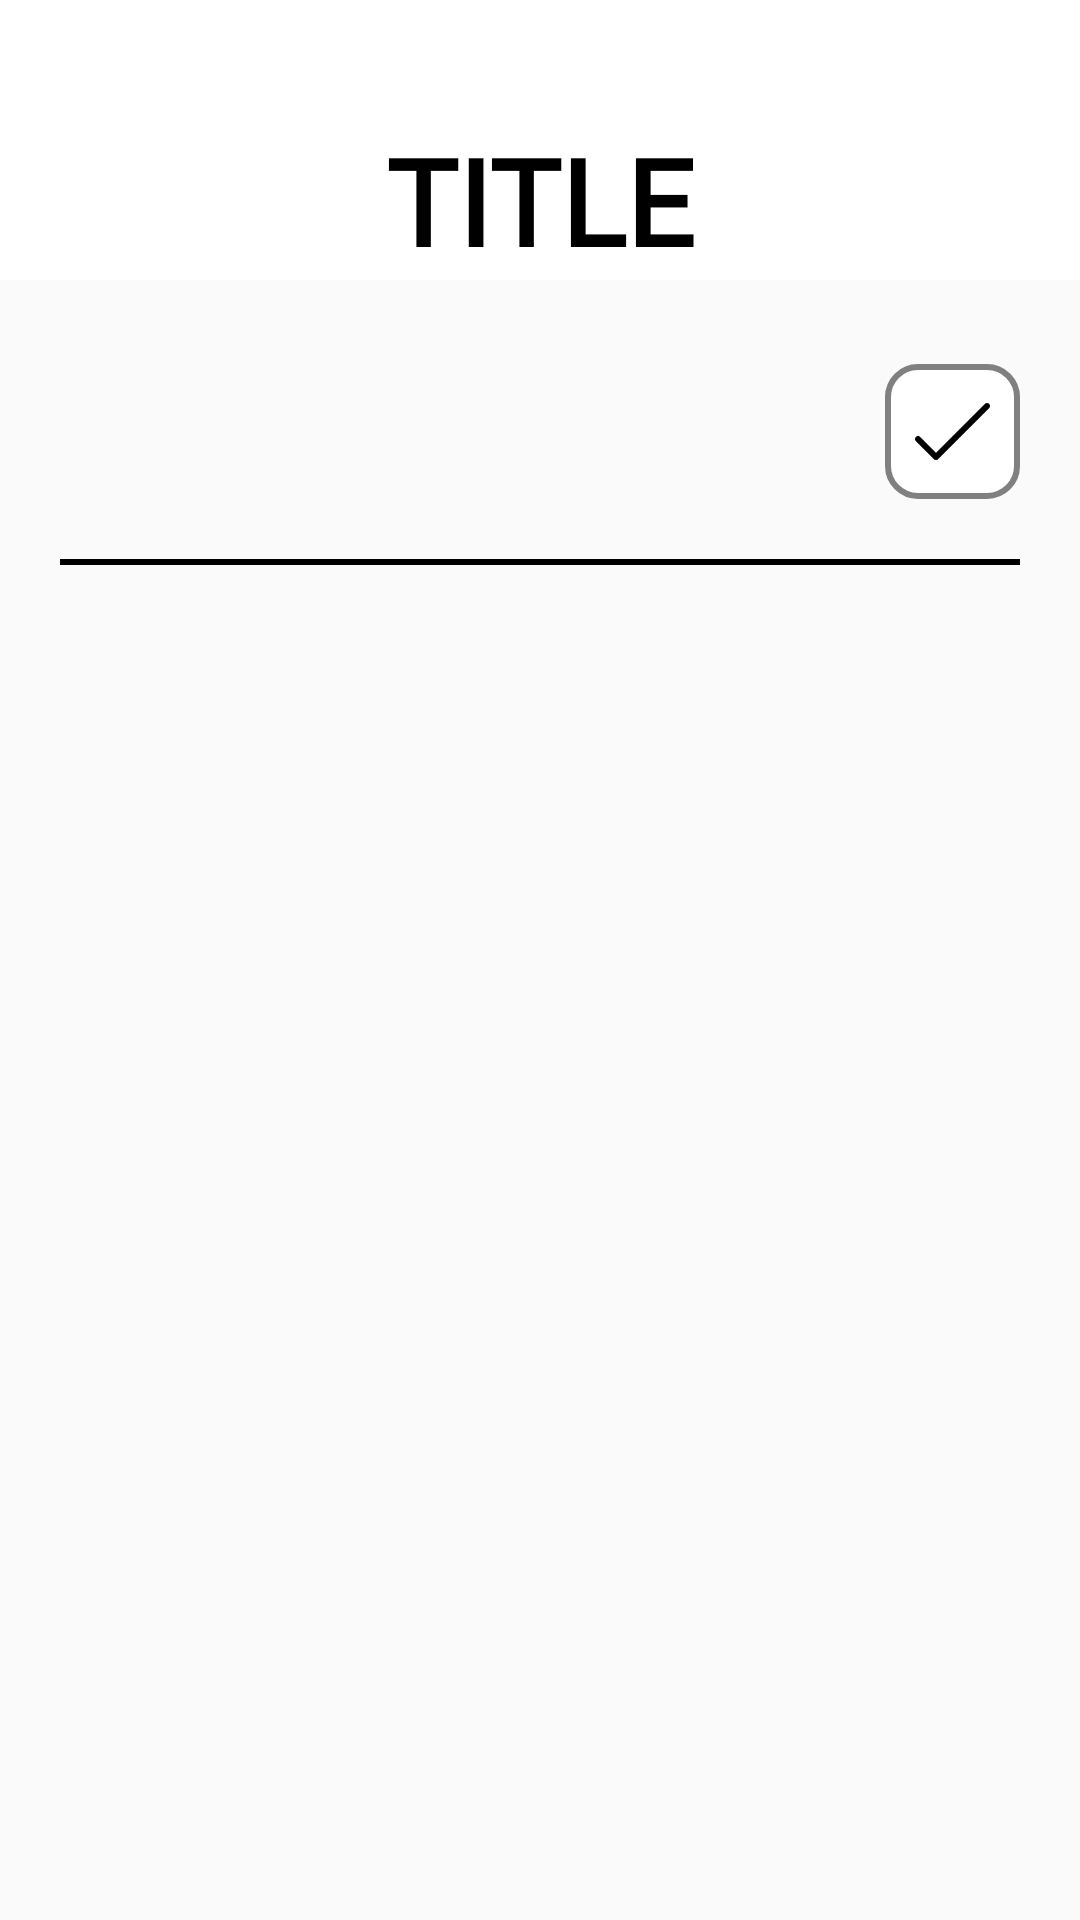

Locate icon controls on the screen. Image size 1080x1920, boxes as (x1, y1, x2, y2).
tick: (885, 364, 1020, 499)
